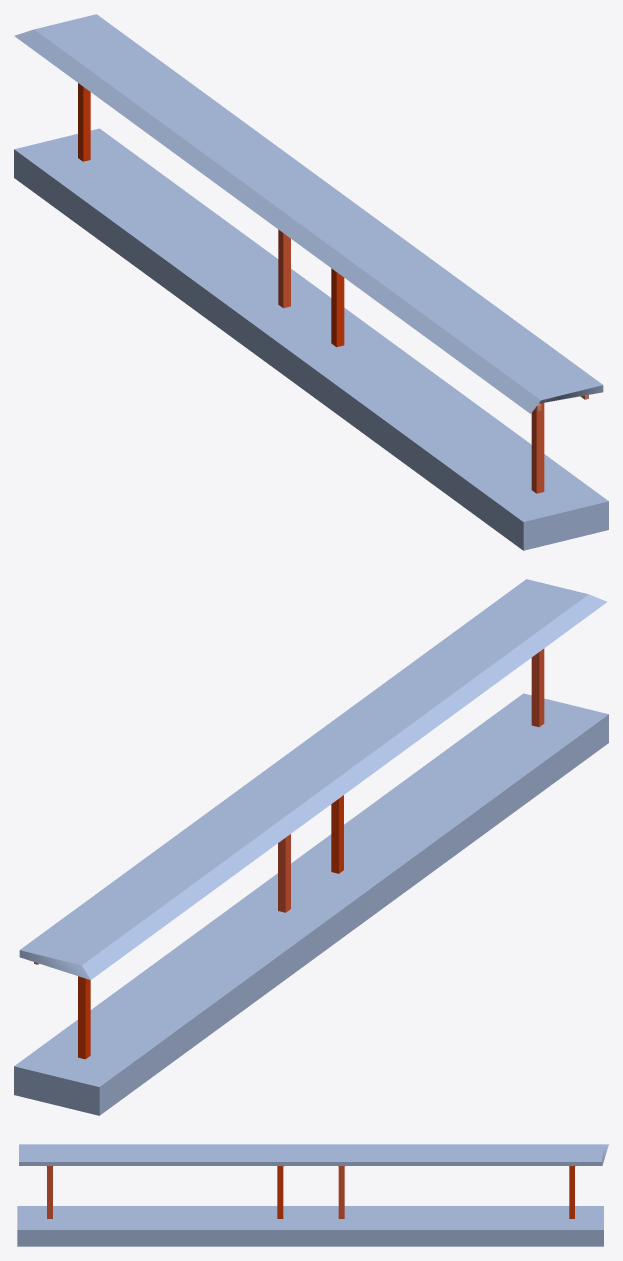
The model's file is station.gltf.
3 renders of one model, top to bottom at view 1: azimuth 30°, elevation 25°; view 2: azimuth 150°, elevation 25°; view 3: azimuth 270°, elevation 25°, orthographic. The views are drawn at different scales.
Parts seen in each view (by area): view 1: Cube.002; view 2: Cube.002; view 3: Cube.002.
Part boxes in pixels (<box>): Cube.002: <box>14,14,608,550</box>; Cube.002: <box>14,579,608,1115</box>; Cube.002: <box>17,1144,608,1246</box>.
Size of the model in its own units: 8.1 by 13.13 by 84.79.
